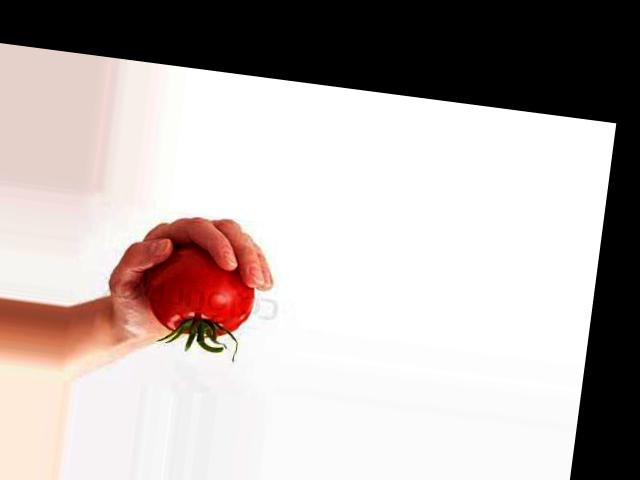tomato: (144, 239, 260, 343)
